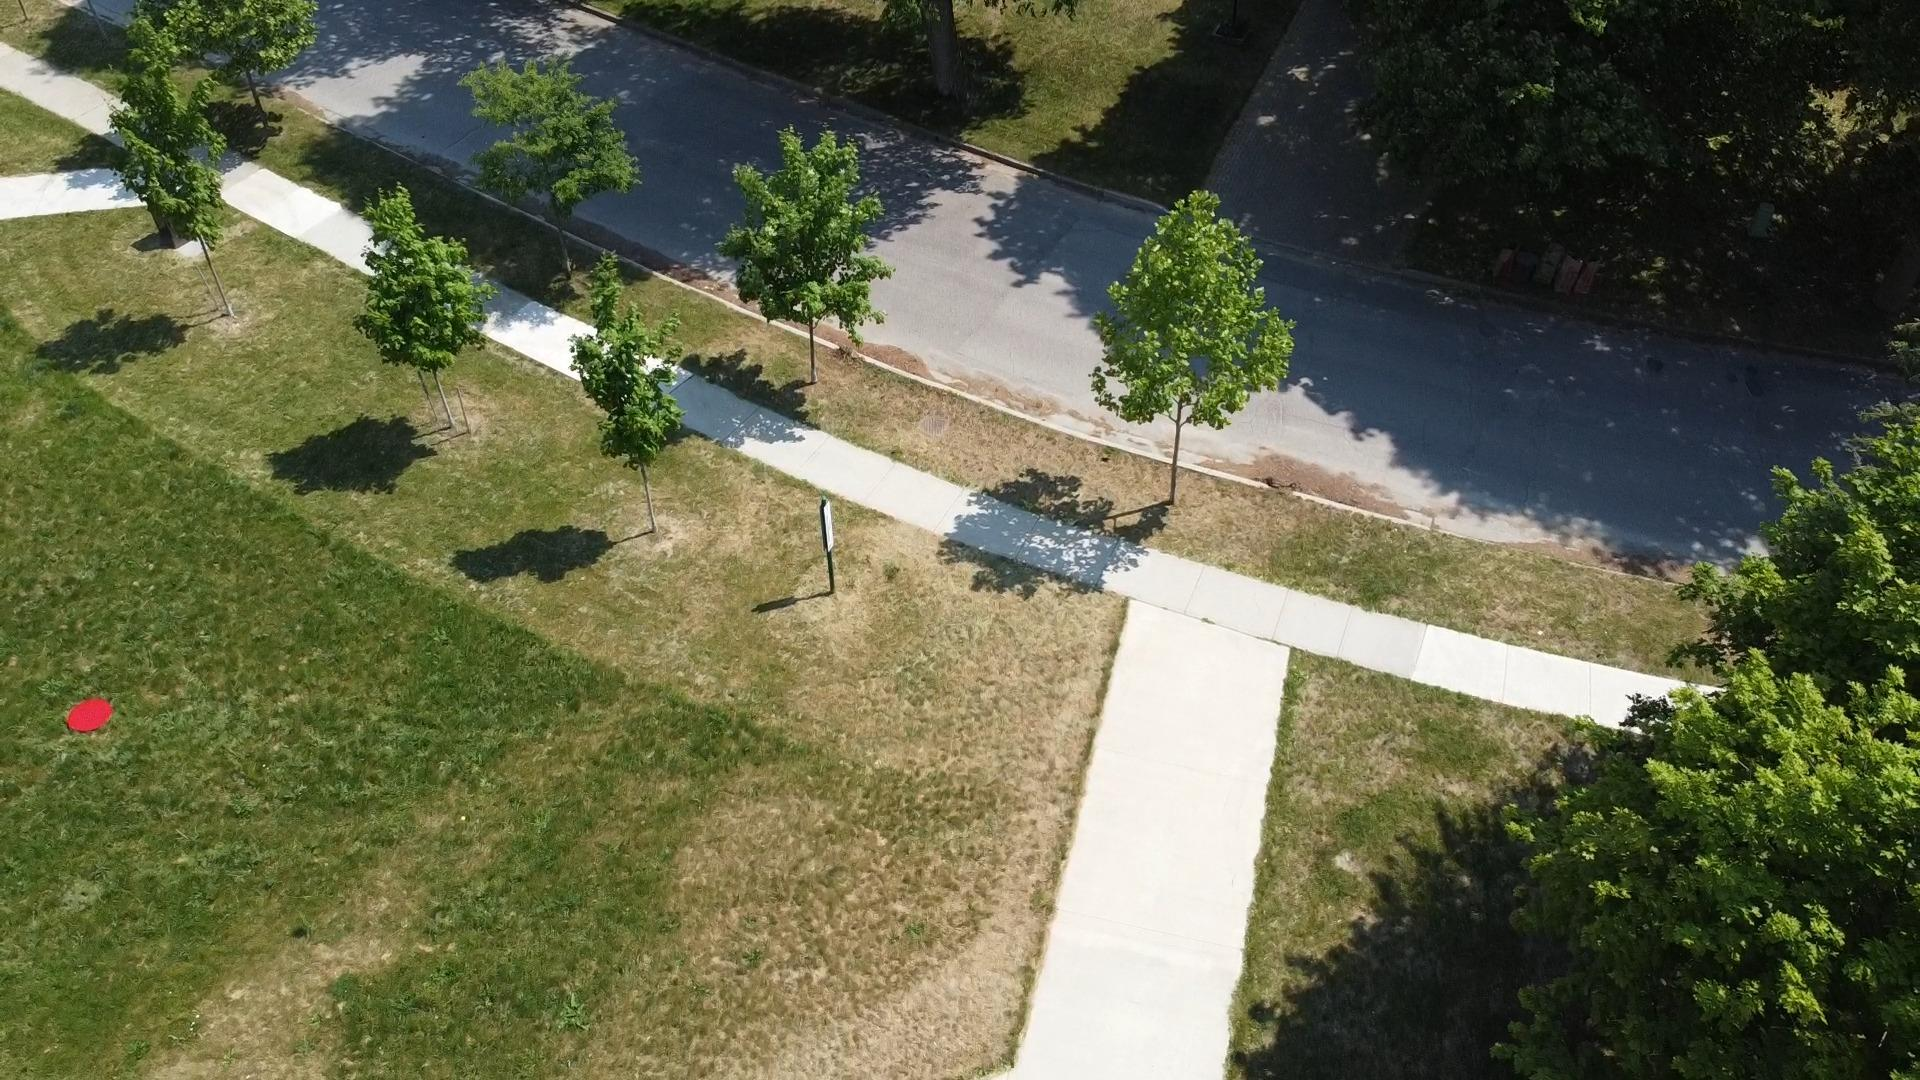Red: (66, 696, 115, 733)
